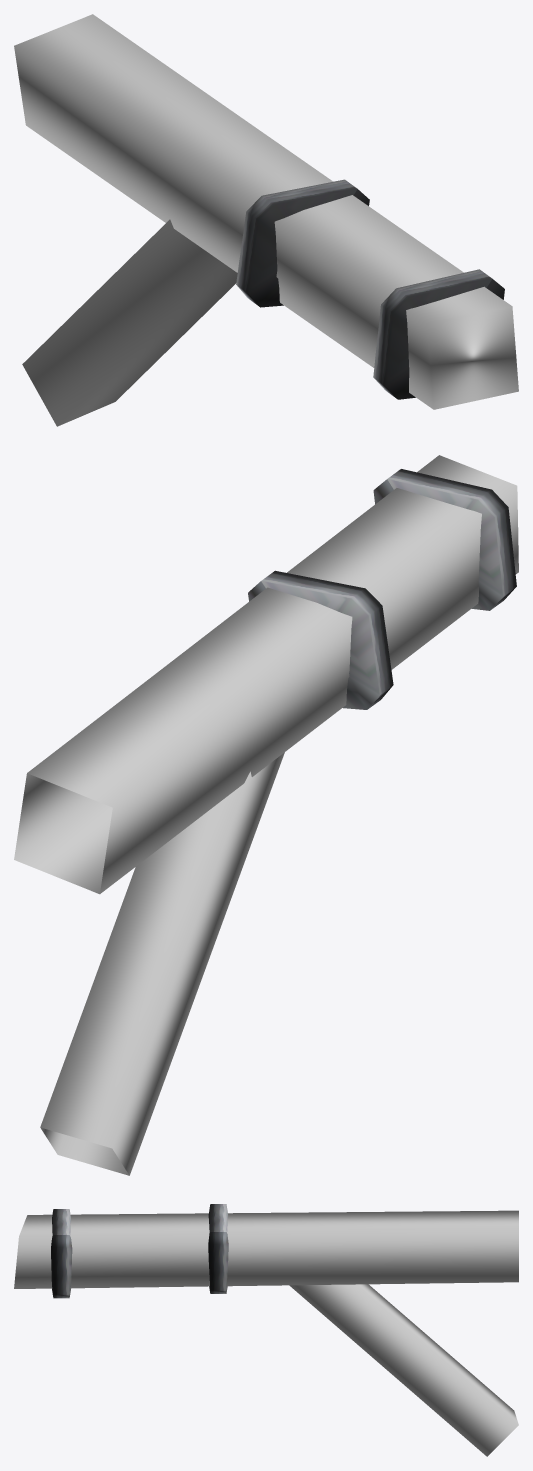
Rendered from ElevatorBeam_1.fbx.
3 views of the same model, one above another, from view 1: azimuth 30°, elevation 25°; view 2: azimuth 150°, elevation 25°; view 3: azimuth 270°, elevation 25° (orthographic). The views are drawn at different scales.
Parts seen in each view (by area): view 1: Mesh; view 2: Mesh; view 3: Mesh.
Boxes of the visible parts, x1,y1,x2,y2 form: Mesh: [14, 14, 518, 426]; Mesh: [14, 455, 518, 1175]; Mesh: [14, 1204, 518, 1456].
Bounding box in the file's own units: 31.25 × 86.89 × 167.
